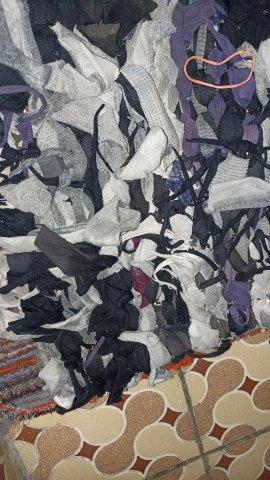karet: (183, 50, 257, 89)
